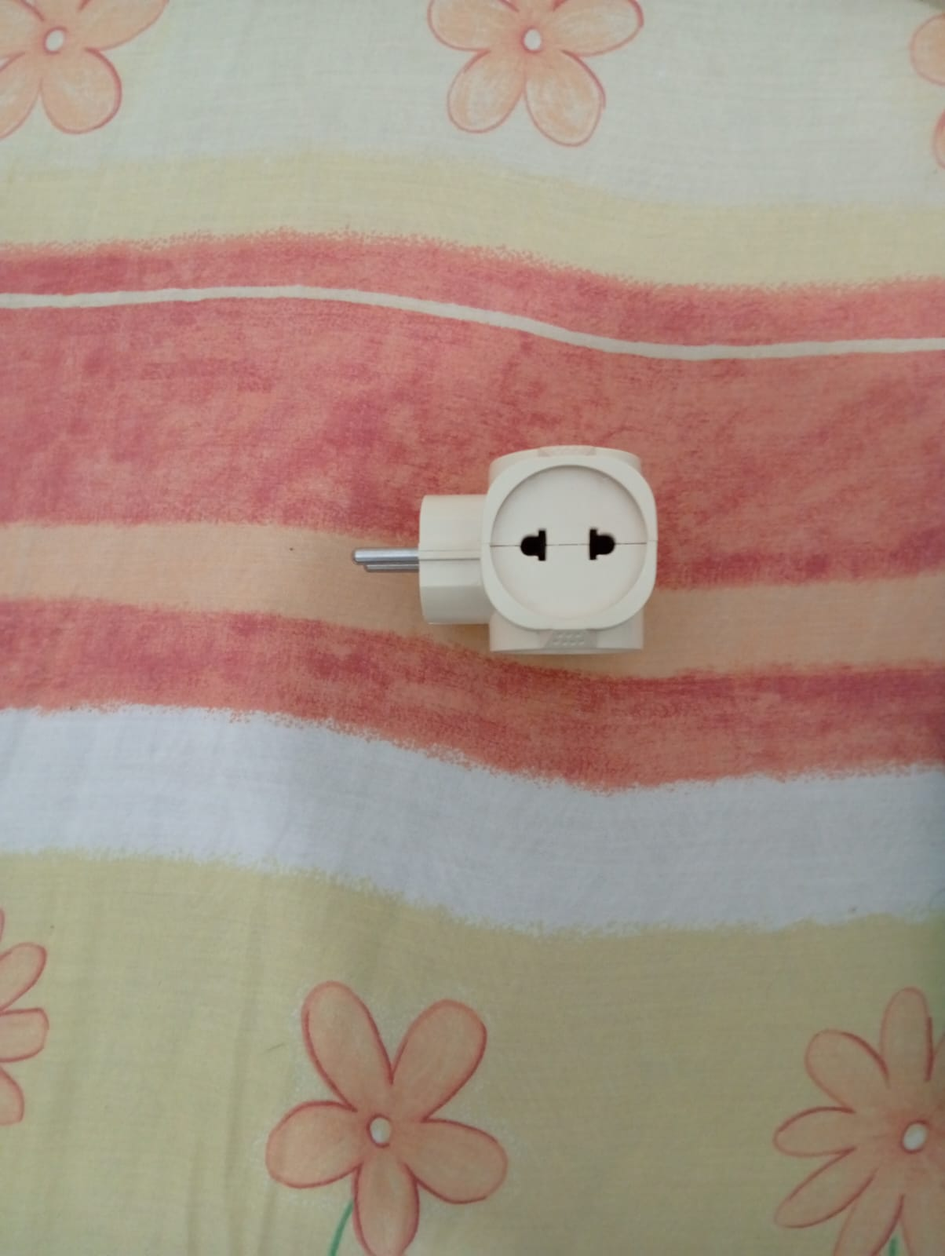Colokan: (348, 429, 672, 674)
